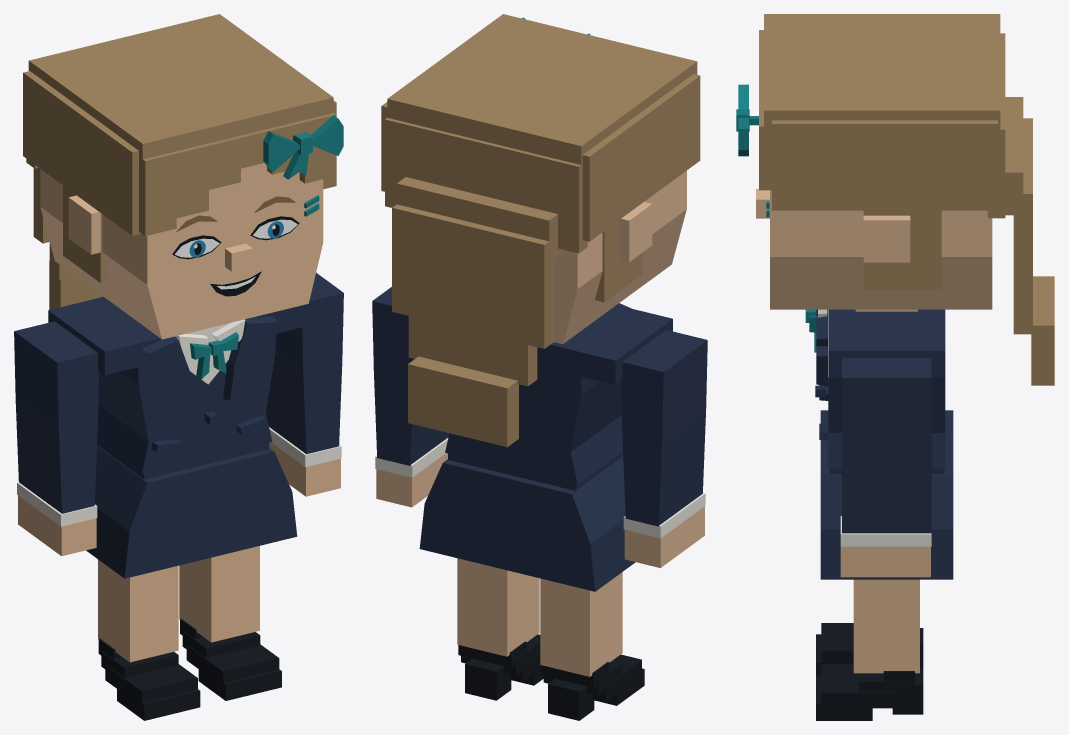
The model's file is female_base.glb.
The picture shows the model from 3 angles, left to right: view 1: azimuth 30°, elevation 25°; view 2: azimuth 150°, elevation 25°; view 3: azimuth 270°, elevation 25°; orthographic projection. The views are drawn at different scales.
Visible parts, largest first — view 1: char_hair_visual, char_torso_visual, char_head_visual, char_arm_negx_visual, char_leg_negx_visual, char_leg_posx_visual, char_arm_posx_visual, char_bow_visual, char_hand_negx_visual, char_hand_posx_visual, char_eye_negx_visual, char_eye_posx_visual (+1 smaller); view 2: char_hair_visual, char_torso_visual, char_arm_negx_visual, char_leg_negx_visual, char_leg_posx_visual, char_head_visual, char_arm_posx_visual, char_hand_negx_visual, char_hand_posx_visual; view 3: char_hair_visual, char_head_visual, char_arm_posx_visual, char_torso_visual, char_leg_posx_visual, char_hand_posx_visual, char_leg_negx_visual, char_bow_visual.
Part boxes in pixels (box(x1,y1,x2,y2)): char_hair_visual: box(23, 14, 336, 309); char_torso_visual: box(48, 297, 309, 578); char_head_visual: box(40, 163, 323, 339); char_arm_negx_visual: box(14, 321, 99, 526); char_leg_negx_visual: box(98, 559, 200, 720); char_leg_posx_visual: box(179, 546, 281, 700); char_arm_posx_visual: box(266, 272, 343, 466); char_bow_visual: box(263, 115, 343, 179); char_hand_negx_visual: box(18, 495, 96, 556); char_hand_posx_visual: box(269, 442, 340, 496); char_eye_negx_visual: box(172, 235, 221, 259); char_eye_posx_visual: box(250, 216, 299, 240); char_hair_visual: box(381, 14, 700, 447); char_torso_visual: box(407, 303, 672, 591); char_arm_negx_visual: box(621, 330, 707, 538); char_leg_negx_visual: box(540, 572, 644, 720); char_leg_posx_visual: box(457, 558, 543, 700); char_head_visual: box(554, 170, 686, 344); char_arm_posx_visual: box(372, 287, 449, 477); char_hand_negx_visual: box(624, 506, 704, 567); char_hand_posx_visual: box(376, 453, 447, 507); char_hair_visual: box(759, 14, 1054, 385); char_head_visual: box(756, 189, 992, 311); char_arm_posx_visual: box(840, 357, 931, 546); char_torso_visual: box(805, 309, 953, 579); char_leg_posx_visual: box(816, 579, 923, 720); char_hand_posx_visual: box(840, 546, 930, 577); char_leg_negx_visual: box(816, 623, 923, 675); char_bow_visual: box(736, 84, 758, 156).
Bounding box in the file's own units: 0.88 × 1.77 × 0.816.
